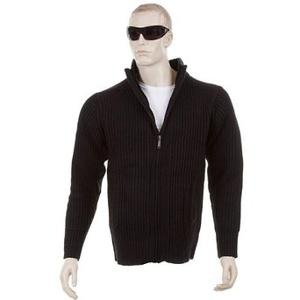S_cardigan sweater: (39, 68, 252, 257)
